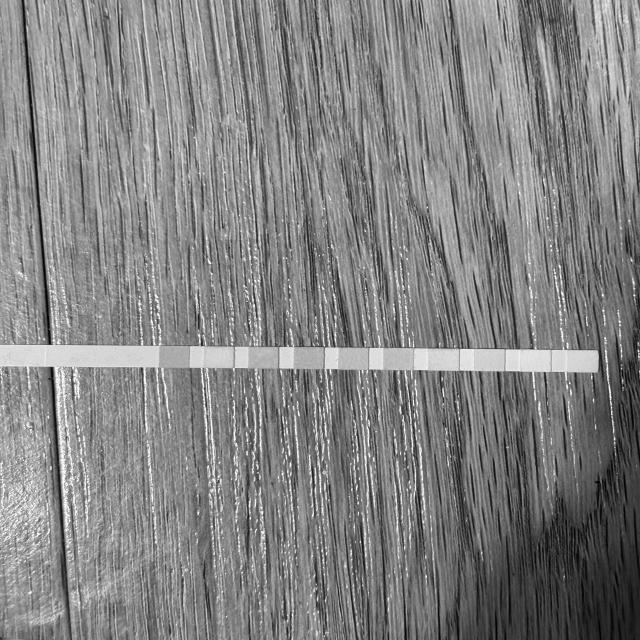Bilirubin: (205, 347, 233, 368)
Blood: (340, 348, 368, 370)
Glucose: (160, 346, 189, 368)
Ketone: (249, 347, 278, 368)
Leukocytes: (568, 350, 598, 372)
Nitrite: (521, 349, 550, 372)
Protein: (429, 349, 459, 370)
SpGravity: (295, 347, 323, 369)
Urobilinogen: (475, 349, 504, 371)
background: (0, 0, 640, 640)
pH: (384, 348, 413, 370)
strip: (17, 345, 599, 372)
